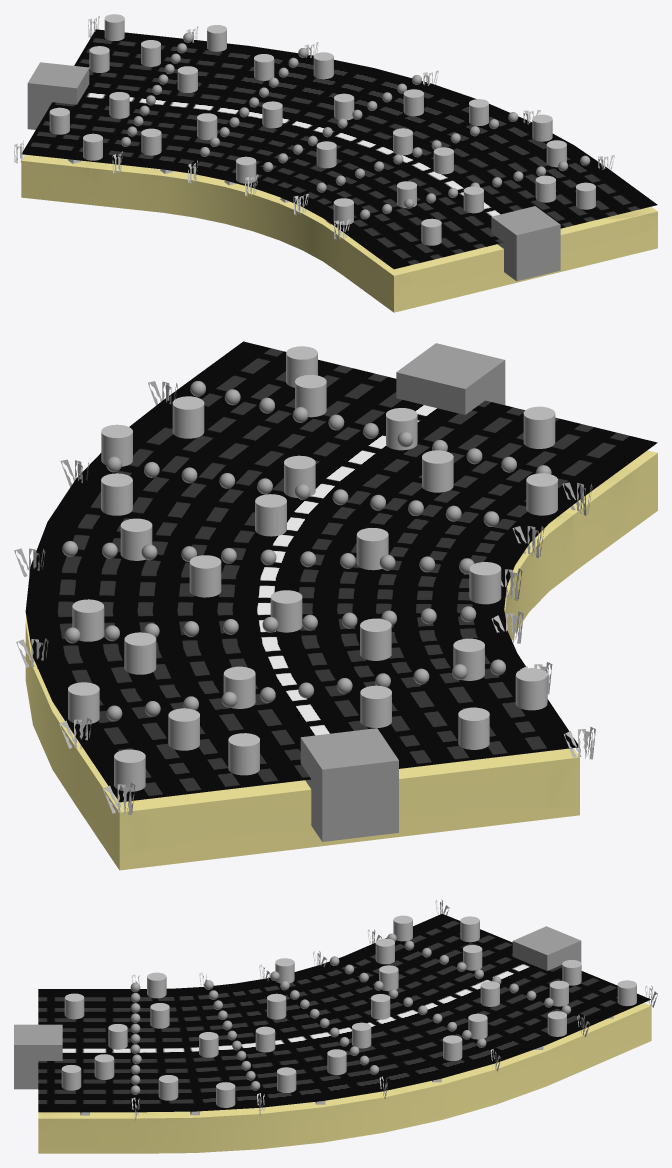
The model's file is assets013_Streckenteil_links001.fbx.
The picture shows the model from 3 angles, top to bottom: view 1: azimuth 30°, elevation 25°; view 2: azimuth 150°, elevation 25°; view 3: azimuth 270°, elevation 25°; orthographic projection. The views are drawn at different scales.
Visible parts, largest first — view 1: streckenteil_linkskurve_indicator_geo, streckenteil_linkskurve_geo1, a (×12), b (×10), startpoint, endpoint, c (×5), d; view 2: streckenteil_linkskurve_indicator_geo, streckenteil_linkskurve_geo1, a (×12), b (×10), endpoint, c (×5), startpoint, d; view 3: streckenteil_linkskurve_indicator_geo, streckenteil_linkskurve_geo1, a (×12), b (×10), startpoint, c (×5), endpoint, d.
Boxes of the visible parts, bbox=[...] form: streckenteil_linkskurve_indicator_geo: bbox=[22, 29, 657, 269]; streckenteil_linkskurve_geo1: bbox=[21, 154, 657, 312]; a (×12): bbox=[109, 92, 595, 245]; b (×10): bbox=[49, 25, 488, 183]; startpoint: bbox=[491, 206, 560, 281]; endpoint: bbox=[27, 62, 89, 129]; c (×5): bbox=[83, 14, 333, 160]; d: bbox=[141, 40, 160, 66]; streckenteil_linkskurve_indicator_geo: bbox=[25, 341, 657, 802]; streckenteil_linkskurve_geo1: bbox=[25, 450, 657, 870]; a (×12): bbox=[101, 346, 557, 727]; b (×10): bbox=[68, 473, 501, 775]; endpoint: bbox=[300, 728, 398, 841]; c (×5): bbox=[72, 599, 547, 791]; startpoint: bbox=[396, 343, 505, 414]; d: bbox=[168, 708, 199, 750]; streckenteil_linkskurve_indicator_geo: bbox=[38, 914, 650, 1112]; streckenteil_linkskurve_geo1: bbox=[38, 1003, 651, 1153]; a (×12): bbox=[61, 938, 482, 1107]; b (×10): bbox=[255, 916, 581, 1092]; startpoint: bbox=[14, 1024, 62, 1089]; c (×5): bbox=[379, 915, 636, 1060]; endpoint: bbox=[512, 926, 581, 970]; d: bbox=[549, 980, 568, 1006].
Bounding box in the file's own units: 50.24 × 6.73 × 66.24.
